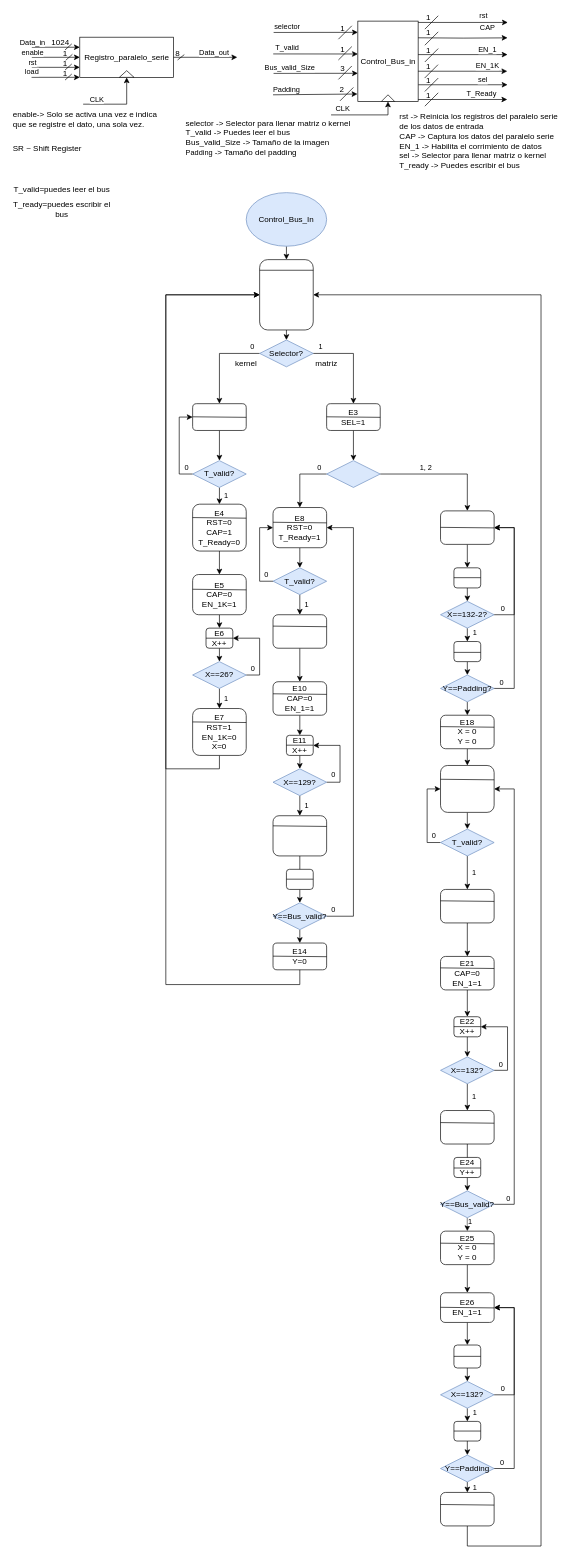
Some shapes in this 577 by 1563 pixel diagram are drawn without their labels. Here are the shapes that lost their labels. From the top down, the centre of each, then its label:
point (286, 294): E1 RST=1 CAP=0 EN_1=0 EN_1K=0 SEL=0 T_Ready=0
point (219, 416): E2 T_Ready=1
point (353, 473): Padding?
point (467, 527): E15 EN_1=1
point (467, 577): E16 X++
point (299, 631): E9 CAP=1 T_Ready=0
point (467, 651): E17 Y++
point (467, 788): E19 RST=0 EN_1=0 T_Ready=1
point (299, 835): E12 RST=1 EN_1=0 X=0
point (299, 879): E13 Y++
point (467, 906): E20 CAP=1 T_Ready=0
point (467, 1127): E23 RST=1 EN_1=0
point (467, 1356): E27 X++
point (467, 1431): E28 Y++
point (467, 1509): E29 X = 0 Y = 0
